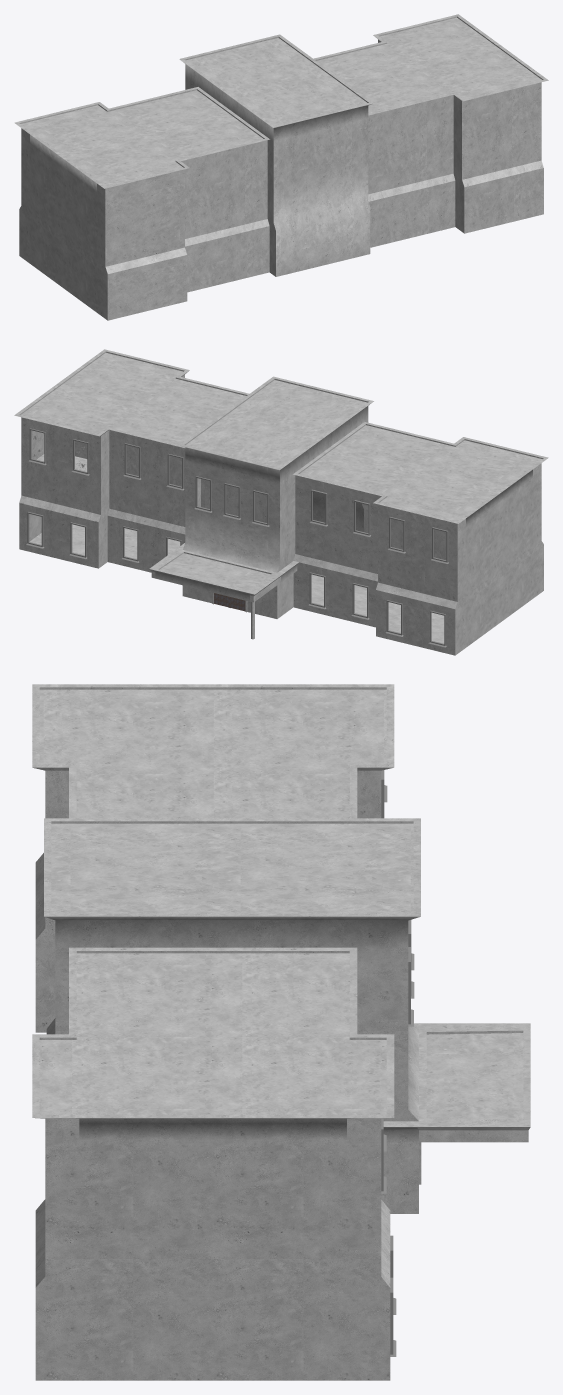
File: Office_Building_01.FBX
3 renders of one model, top to bottom at view 1: azimuth 30°, elevation 25°; view 2: azimuth 150°, elevation 25°; view 3: azimuth 270°, elevation 25°, orthographic. The views are drawn at different scales.
Visible parts, largest first — view 1: Box001; view 2: Box001, Box002; view 3: Box001.
Boxes of the visible parts, x1,y1,x2,y2 form: Box001: [14, 14, 548, 320]; Box001: [14, 349, 548, 655]; Box002: [31, 430, 87, 471]; Box001: [32, 684, 530, 1380].
Size of the model in its own units: 786 by 254 by 382.
4 materials, 3 textured.
